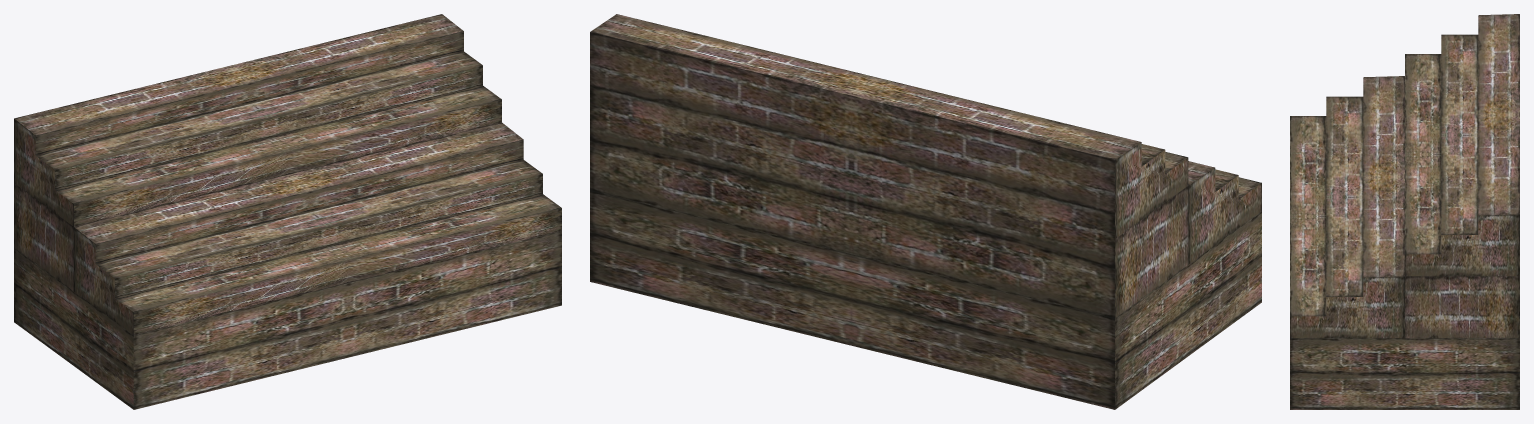
Rendered from brick_stairs_quadruple.fbx.
The picture shows the model from 3 angles, left to right: view 1: azimuth 30°, elevation 25°; view 2: azimuth 150°, elevation 25°; view 3: azimuth 270°, elevation 25°; orthographic projection. The views are drawn at different scales.
Visible parts, largest first — view 1: polySurface11_DUP, polySurface10_DUP, polySurface9; view 2: polySurface9, polySurface10_DUP; view 3: polySurface10_DUP, polySurface9.
Boxes of the visible parts, <box> form: polySurface11_DUP: <box>35,31,561,409</box>; polySurface10_DUP: <box>14,14,561,312</box>; polySurface9: <box>14,119,133,409</box>; polySurface9: <box>590,32,1261,409</box>; polySurface10_DUP: <box>590,14,1261,199</box>; polySurface10_DUP: <box>1290,14,1519,316</box>; polySurface9: <box>1290,214,1519,409</box>.
Bounding box in the file's own units: 2299 × 1046 × 1114.
Materials: 1 (1 with a texture image).
